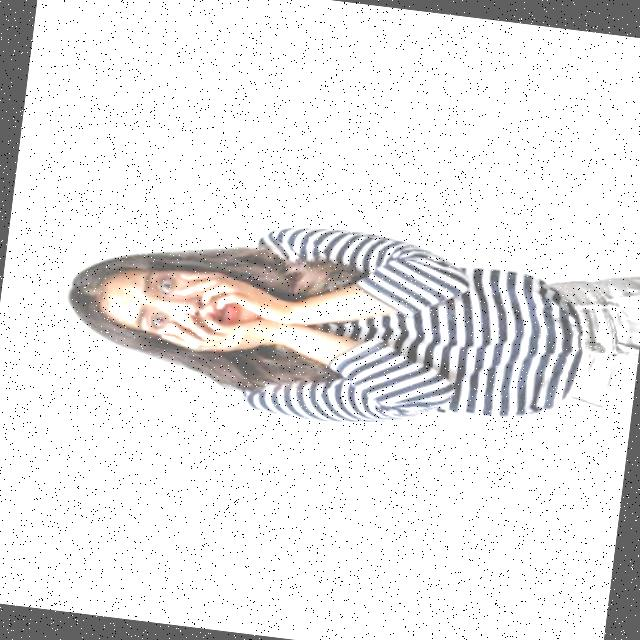fear: (65, 240, 300, 378)
